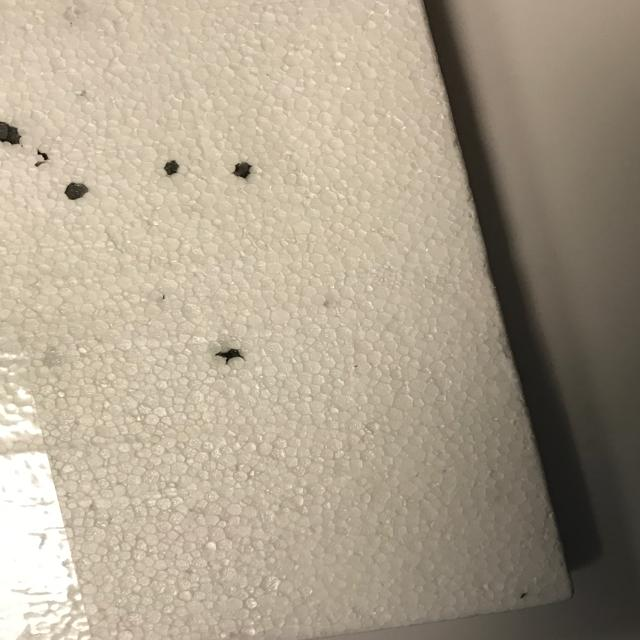trash: (1, 0, 580, 639)
